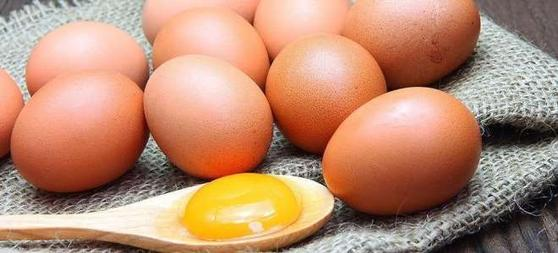egg: (324, 90, 487, 223), (11, 69, 151, 196), (144, 56, 278, 175), (269, 31, 389, 148), (351, 1, 484, 93), (26, 16, 151, 83)
